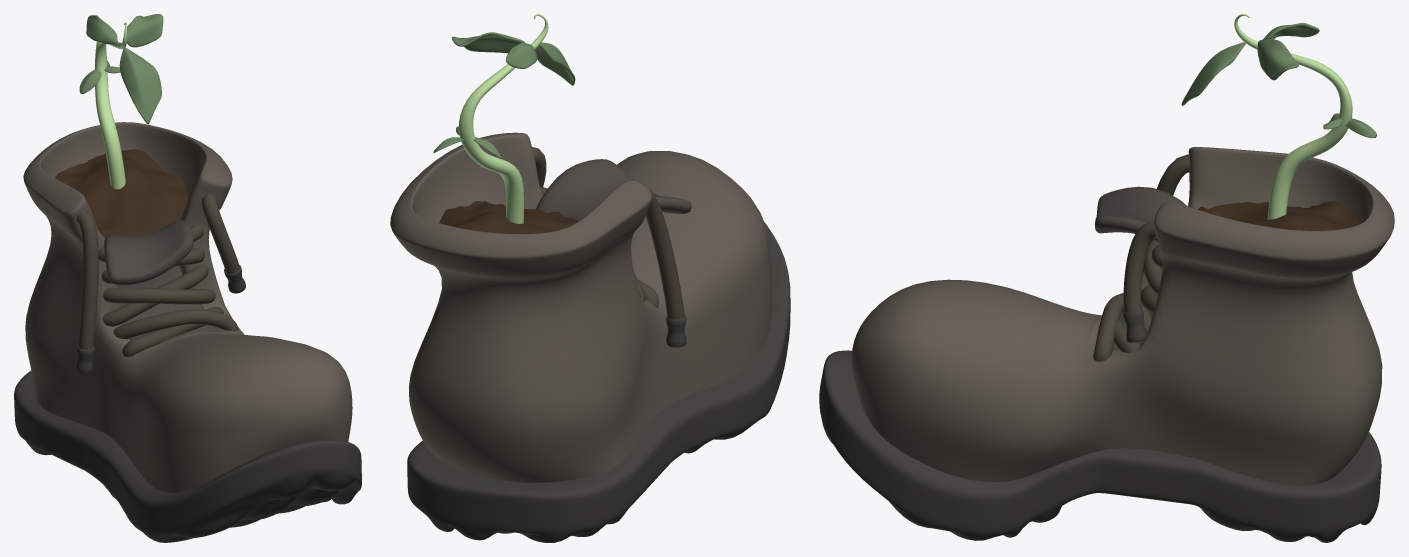
Rendered from the_plant.glb.
3 renders of one model, left to right at view 1: azimuth 30°, elevation 25°; view 2: azimuth 150°, elevation 25°; view 3: azimuth 270°, elevation 25°, orthographic. The views are drawn at different scales.
Parts seen in each view (by area): view 1: Object_4, Object_5, Object_2, Object_3, Object_7, Object_9, Object_6, Object_8; view 2: Object_4, Object_5, Object_7, Object_6, Object_9, Object_2, Object_3, Object_8; view 3: Object_4, Object_5, Object_2, Object_9, Object_6, Object_3, Object_7.
Part boxes in pixels (bbox=[...]): Object_4: bbox=[23, 122, 352, 492]; Object_5: bbox=[14, 371, 361, 542]; Object_2: bbox=[76, 194, 239, 356]; Object_3: bbox=[55, 149, 188, 238]; Object_7: bbox=[104, 220, 217, 344]; Object_9: bbox=[79, 14, 163, 124]; Object_6: bbox=[95, 22, 127, 189]; Object_8: bbox=[76, 265, 245, 373]; Object_4: bbox=[390, 132, 772, 482]; Object_5: bbox=[407, 222, 790, 542]; Object_7: bbox=[536, 159, 691, 221]; Object_6: bbox=[458, 14, 548, 223]; Object_9: bbox=[433, 32, 575, 158]; Object_2: bbox=[532, 147, 684, 319]; Object_3: bbox=[439, 201, 578, 233]; Object_8: bbox=[666, 315, 686, 347]; Object_4: bbox=[851, 147, 1394, 485]; Object_5: bbox=[819, 350, 1381, 542]; Object_2: bbox=[1093, 154, 1190, 361]; Object_9: bbox=[1181, 23, 1376, 138]; Object_6: bbox=[1234, 14, 1352, 219]; Object_3: bbox=[1198, 201, 1359, 230]; Object_7: bbox=[1095, 186, 1186, 350].
Size of the model in its own units: 1.68 by 3.63 by 3.85.
